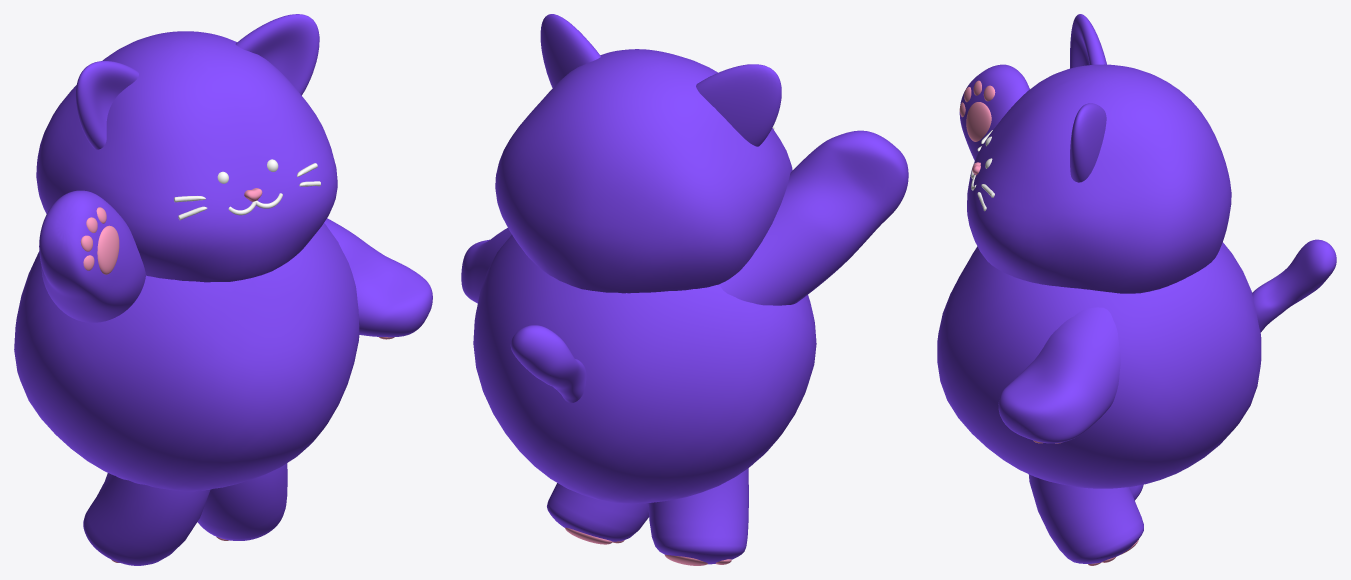
File: catch1.glb
3 views of the same model, side by side, from view 1: azimuth 30°, elevation 25°; view 2: azimuth 150°, elevation 25°; view 3: azimuth 270°, elevation 25° (orthographic). The views are drawn at different scales.
Parts seen in each view (by area): view 1: body, head, arm1, leg2, arm1.001, leg1, ear, ear2; view 2: body, head, arm1, leg2, ear2, leg1, tail, ear, arm1.001; view 3: body, head, arm1.001, leg1, arm1, tail, ear, ear2.
Boxes of the visible parts, x1=… form: body: x1=14, y1=223, x2=359, y2=491; head: x1=36, y1=31, x2=337, y2=282; arm1: x1=39, y1=190, x2=145, y2=322; leg2: x1=83, y1=473, x2=210, y2=565; arm1.001: x1=324, y1=218, x2=432, y2=337; leg1: x1=197, y1=463, x2=287, y2=540; ear: x1=235, y1=14, x2=319, y2=95; ear2: x1=75, y1=61, x2=138, y2=149; body: x1=473, y1=235, x2=816, y2=503; head: x1=495, y1=49, x2=792, y2=293; arm1: x1=719, y1=130, x2=908, y2=305; leg2: x1=648, y1=468, x2=748, y2=564; ear2: x1=696, y1=64, x2=781, y2=146; leg1: x1=547, y1=483, x2=648, y2=541; tail: x1=510, y1=325, x2=586, y2=402; ear: x1=540, y1=14, x2=600, y2=87; arm1.001: x1=461, y1=228, x2=511, y2=303; body: x1=937, y1=242, x2=1261, y2=488; head: x1=967, y1=64, x2=1231, y2=293; arm1.001: x1=998, y1=307, x2=1120, y2=443; leg1: x1=1028, y1=474, x2=1143, y2=563; arm1: x1=959, y1=64, x2=1029, y2=160; tail: x1=1252, y1=239, x2=1336, y2=332; ear: x1=1070, y1=103, x2=1106, y2=182; ear2: x1=1070, y1=14, x2=1106, y2=68.
Bounding box in the file's own units: 3.35 × 3.98 × 3.03.
